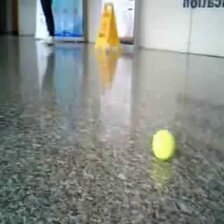tennis: (152, 129, 175, 162)
